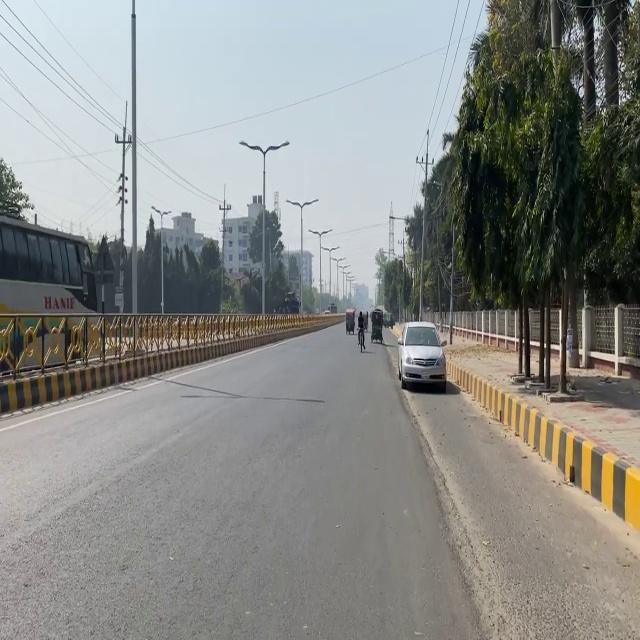Broken-road: (382, 312, 462, 394)
Construction-barrier: (378, 400, 478, 640)
Fallen-tree: (356, 326, 367, 352), (345, 318, 353, 335)
Pothole: (379, 321, 639, 638)
Traffic-cone: (0, 213, 102, 372)
